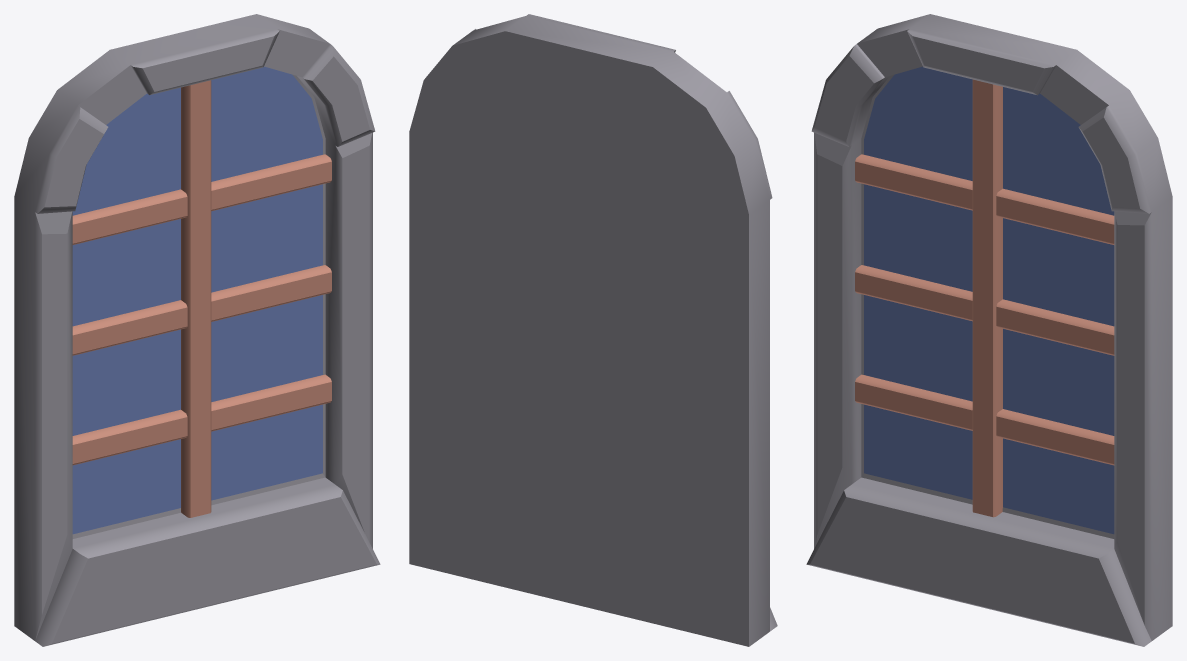
Rendered from Window 1.fbx.
The picture shows the model from 3 angles, left to right: view 1: azimuth 30°, elevation 25°; view 2: azimuth 150°, elevation 25°; view 3: azimuth 330°, elevation 25°; orthographic projection.
Visible parts, largest first — view 1: Cube.008; view 2: Cube.008; view 3: Cube.008.
Part boxes in pixels (x1=…): Cube.008: x1=14, y1=14, x2=380, y2=646; Cube.008: x1=409, y1=14, x2=777, y2=646; Cube.008: x1=806, y1=14, x2=1172, y2=646.
Bounding box in the file's own units: 107 × 168 × 17.2.
